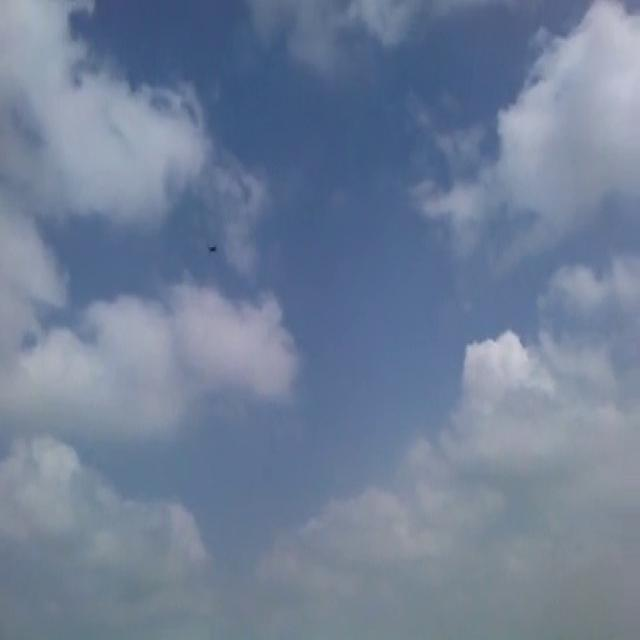drone: (205, 238, 219, 258)
